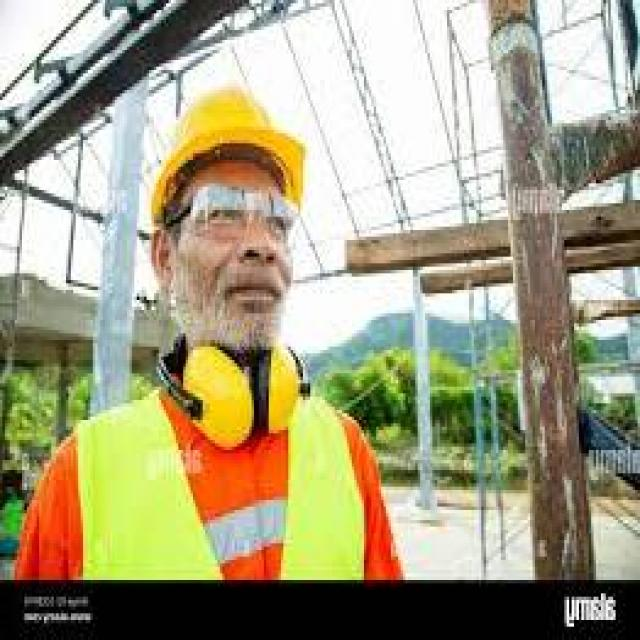Reflective-Jacket: (32, 340, 396, 583)
Safety-Helmet: (134, 77, 320, 233)
